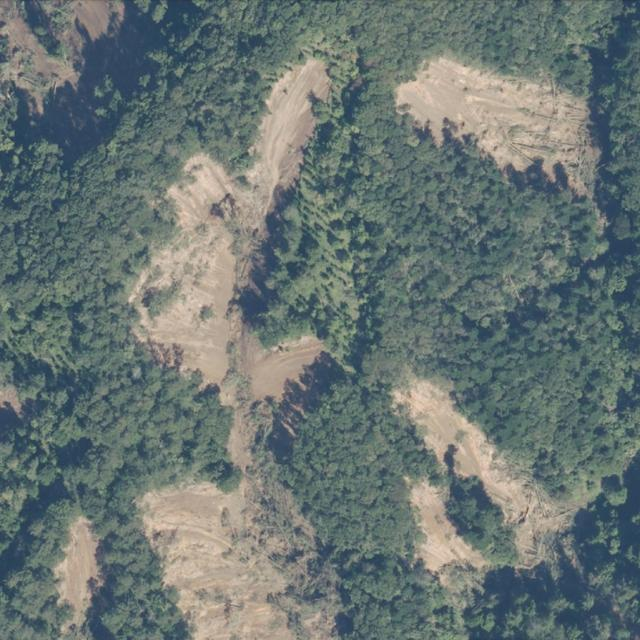landslide: (129, 52, 340, 640), (391, 376, 586, 613), (0, 1, 185, 166), (391, 56, 601, 197), (51, 517, 101, 637)
